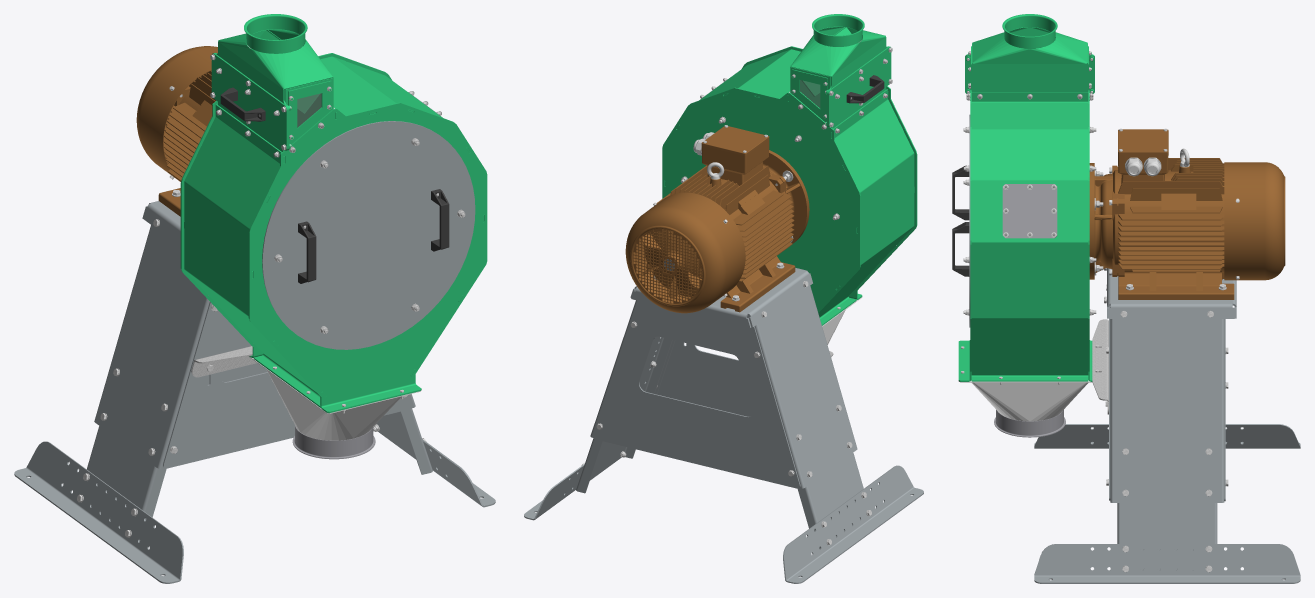
Rendered from RVO-930.glb.
The picture shows the model from 3 angles, left to right: view 1: azimuth 30°, elevation 25°; view 2: azimuth 150°, elevation 25°; view 3: azimuth 270°, elevation 25°; orthographic projection. The views are drawn at different scales.
Visible parts, largest first — view 1: Volumenkörper1 (×22), Volumenkörper2 (×5), Volumenkörper30; view 2: Volumenkörper1 (×17), Volumenkörper30, Volumenkörper2 (×3), Volumenkörper17, FCMP 180 LC-2/PHE JM3-180L-B35-ENG-189821:1, Volumenkörper3; view 3: Volumenkörper1 (×13), Volumenkörper2 (×6), Volumenkörper30, FCMP 180 LC-2/PHE JM3-180L-B35-ENG-189821:1, Volumenkörper3.
Boxes of the visible parts, box(x1,y1,x2,y2) form: Volumenkörper1 (×22): box(14, 14, 495, 583); Volumenkörper2 (×5): box(191, 29, 400, 440); Volumenkörper30: box(136, 46, 217, 181); Volumenkörper1 (×17): box(524, 14, 923, 583); Volumenkörper30: box(625, 192, 745, 313); Volumenkörper2 (×3): box(701, 26, 885, 174); Volumenkörper17: box(642, 229, 702, 298); FCMP 180 LC-2/PHE JM3-180L-B35-ENG-189821:1: box(762, 150, 809, 243); Volumenkörper3: box(701, 126, 769, 155); Volumenkörper1 (×13): box(958, 14, 1300, 583); Volumenkörper2 (×6): box(971, 27, 1168, 421); Volumenkörper30: box(1224, 162, 1285, 280); FCMP 180 LC-2/PHE JM3-180L-B35-ENG-189821:1: box(1089, 163, 1117, 279); Volumenkörper3: box(1118, 129, 1168, 154).
Bounding box in the file's own units: 1.01 × 1.53 × 1.05.
Materials: 39 (6 with a texture image).
